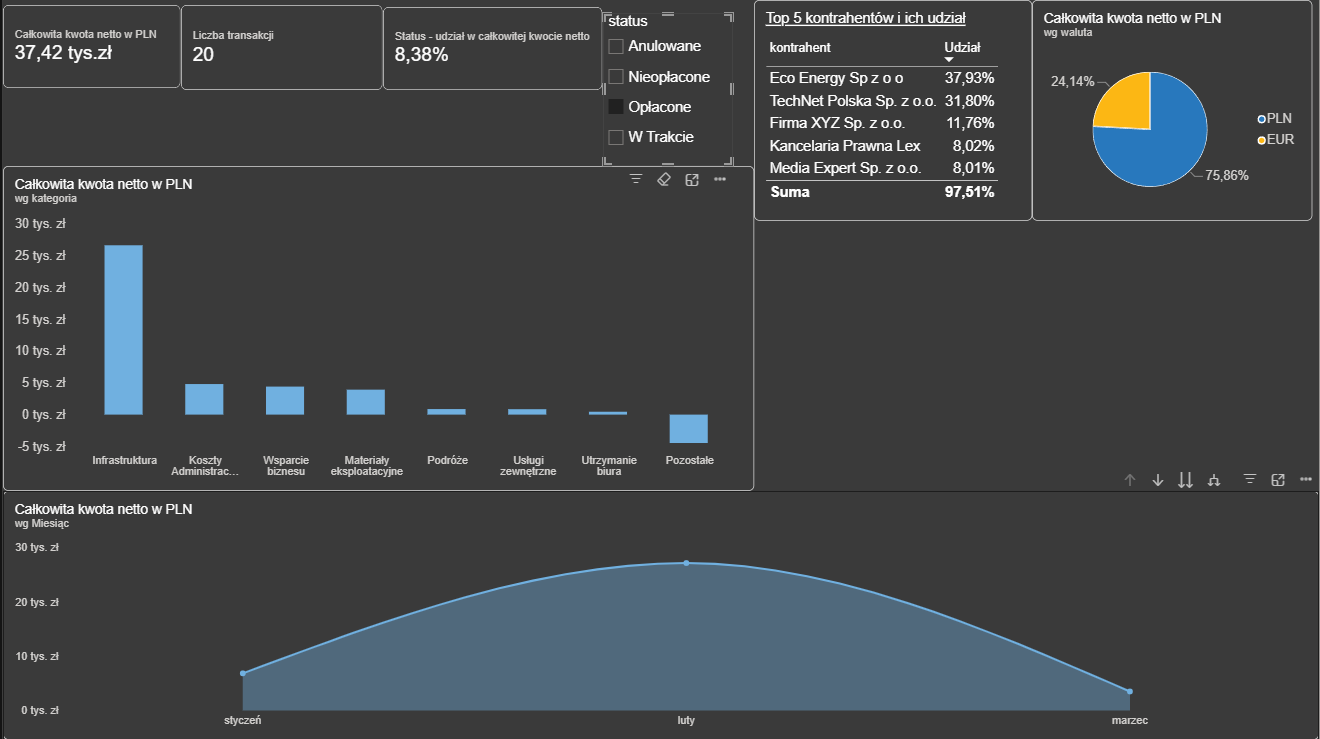

The dashboard page shown, as its layout file describes it:
{"tool":"powerbi","page":{"name":"Strona 1","canvas":[1920,1080],"ordinal":0},"visuals":[{"type":"slicer","fields":{"Values":["transakcje.status"]},"box":[875.4,19,189.7,223.2],"z":1000},{"type":"cardVisual","fields":{"Data":["_Miary.Całkowita kwota netto w PLN"]},"box":[0,7.3,259.7,121.1],"z":2000},{"type":"cardVisual","fields":{"Data":["_Miary.Proc. udział statusu"]},"box":[554.4,10.2,321,121.1],"z":2002},{"type":"cardVisual","fields":{"Data":["_Miary.Liczba transakcji"]},"box":[259.7,7.3,294.7,124],"z":2003},{"type":"pieChart","fields":{"Category":["waluty.waluta"],"Y":["_Miary.Całkowita kwota netto w PLN"]},"box":[1501.3,0,408.5,322.4],"z":2004},{"type":"tableEx","title":"Top 5 kontrahentów i ich udział","fields":{"Values":["kontrahenci.kontrahent","_Miary.Proc. udział kontrahenta"]},"box":[1095.7,0,405.6,322.4],"z":2007},{"type":"clusteredColumnChart","fields":{"Category":["kategoria.kategoria"],"Y":["_Miary.Całkowita kwota netto w PLN"]},"box":[0,242.2,1095.7,474.2],"z":2009},{"type":"stackedAreaChart","fields":{"Category":["Kalendarz.Date.Odmiana.Hierarchia dat.Miesiąc","Kalendarz.Date.Odmiana.Hierarchia dat.Dzień"],"Y":["_Miary.Całkowita kwota netto w PLN"]},"box":[0,716.4,1920,363.3],"z":2010}]}

Visuals, with their boxes in screenshot pixels (x1, y1, x2, y2), scaled from the page's 1920x1080 canvas onto the 1320x739 screenshot:
slicer - transakcje.status: <bbox>602, 13, 732, 166</bbox>
cardVisual - _Miary.Całkowita kwota netto w PLN: <bbox>0, 5, 179, 88</bbox>
cardVisual - _Miary.Proc. udział statusu: <bbox>381, 7, 602, 90</bbox>
cardVisual - _Miary.Liczba transakcji: <bbox>179, 5, 381, 90</bbox>
pieChart - waluty.waluta x _Miary.Całkowita kwota netto w PLN: <bbox>1032, 0, 1313, 221</bbox>
"Top 5 kontrahentów i ich udział" tableEx: <bbox>753, 0, 1032, 221</bbox>
clusteredColumnChart - kategoria.kategoria x _Miary.Całkowita kwota netto w PLN: <bbox>0, 166, 753, 490</bbox>
stackedAreaChart - Kalendarz.Date.Odmiana.Hierarchia dat.Miesiąc x Kalendarz.Date.Odmiana.Hierarchia dat.Dzień: <bbox>0, 490, 1319, 738</bbox>
